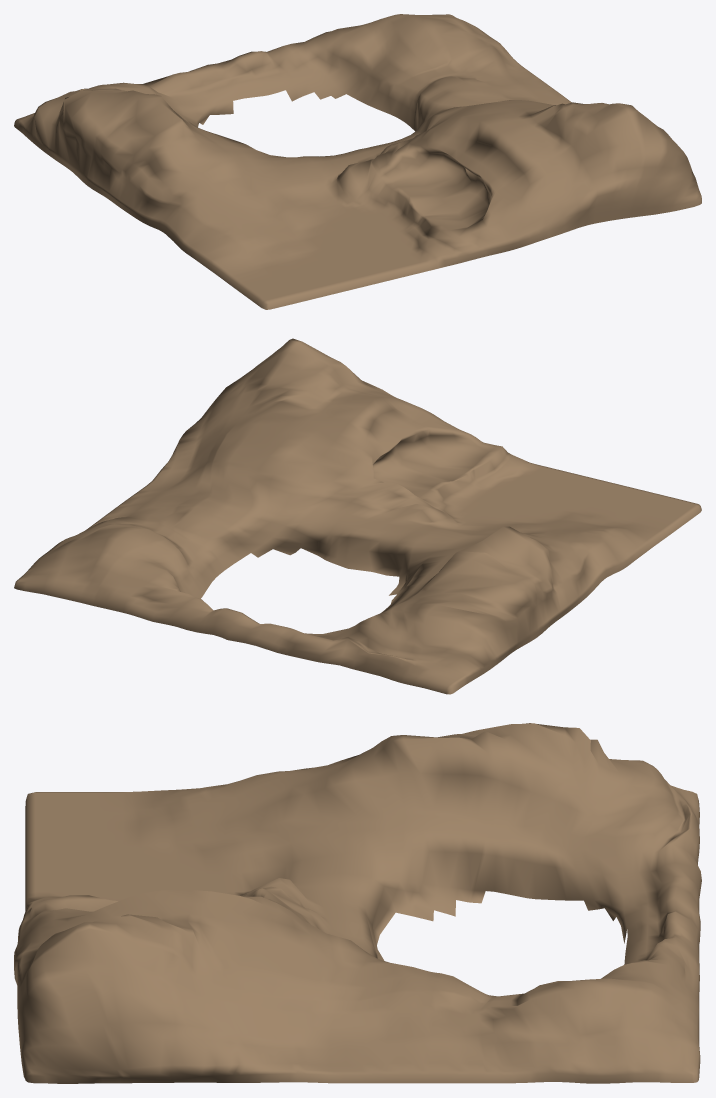
Rendered from level_map.fbx.
3 views of the same model, one above another, from view 1: azimuth 30°, elevation 25°; view 2: azimuth 150°, elevation 25°; view 3: azimuth 270°, elevation 25° (orthographic). The views are drawn at different scales.
Parts seen in each view (by area): view 1: pCube1; view 2: pCube1; view 3: pCube1.
Part boxes in pixels (x1,y1,x2,y2): pCube1: (14,14,701,309); pCube1: (14,338,701,694); pCube1: (14,723,701,1083).
Size of the model in its own units: 523 by 117 by 511.
